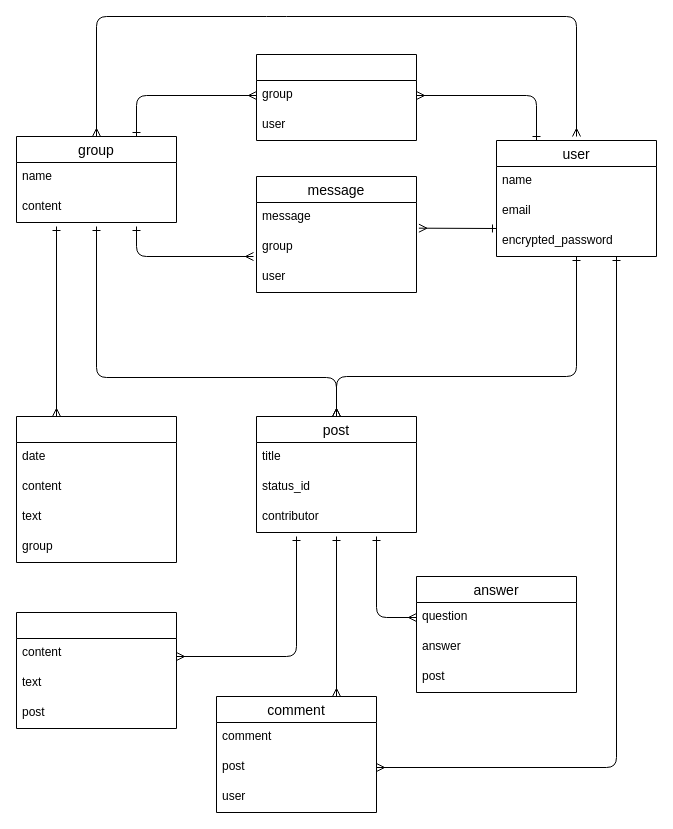
Some shapes in this 673 by 829 pixel diagram are drawn without their labels. The box of each missing label's shape, as (x1, y1, x2, y2) in pixels:
group_user: (256, 54, 416, 140)
page: (16, 612, 176, 728)
schedule: (16, 416, 176, 562)
